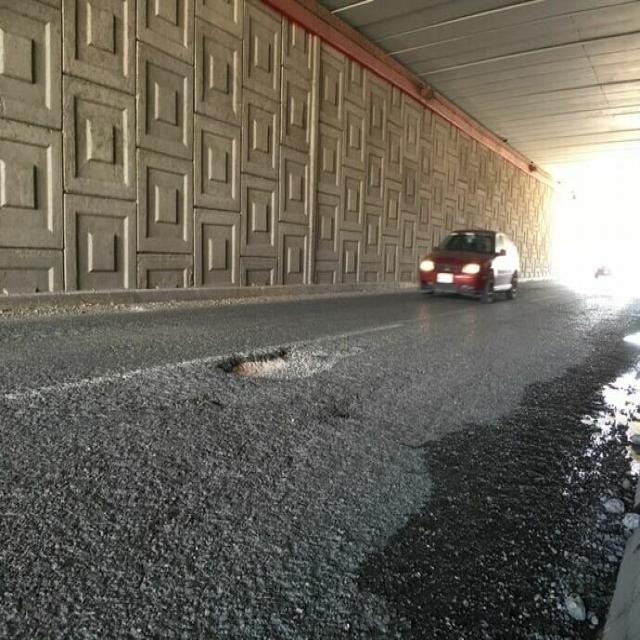Pothole: (212, 316, 423, 469)
